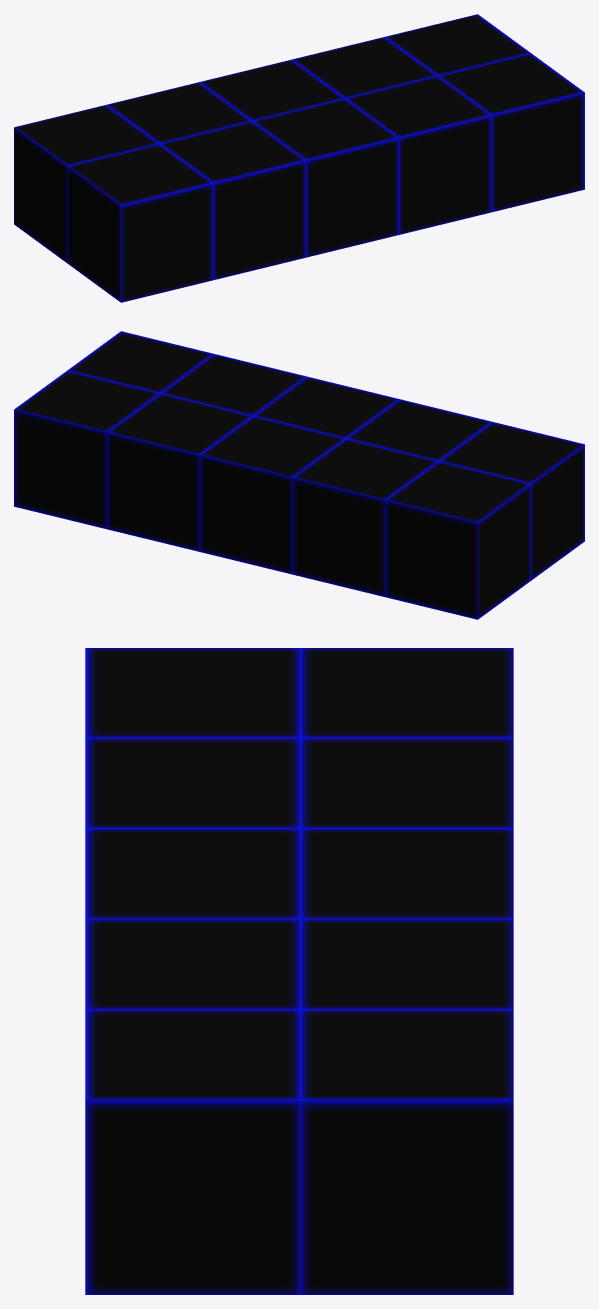
3 views of the same model, one above another, from view 1: azimuth 30°, elevation 25°; view 2: azimuth 150°, elevation 25°; view 3: azimuth 270°, elevation 25° (orthographic). The views are drawn at different scales.
Parts seen in each view (by area): view 1: Box001; view 2: Box001; view 3: Box001.
Boxes of the visible parts, box(x1,y1,x2,y2) form: Box001: box(14, 14, 584, 302); Box001: box(14, 331, 584, 619); Box001: box(85, 648, 513, 1294).
Size of the model in its own units: 5 by 1 by 2.
Materials: 1 (1 with a texture image).
